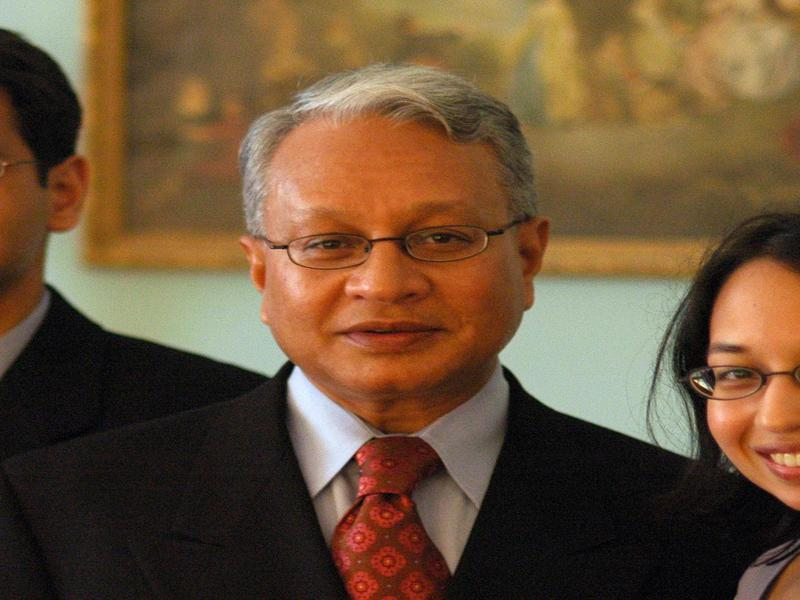person: (20, 65, 796, 600), (1, 24, 261, 445), (656, 197, 800, 600)
